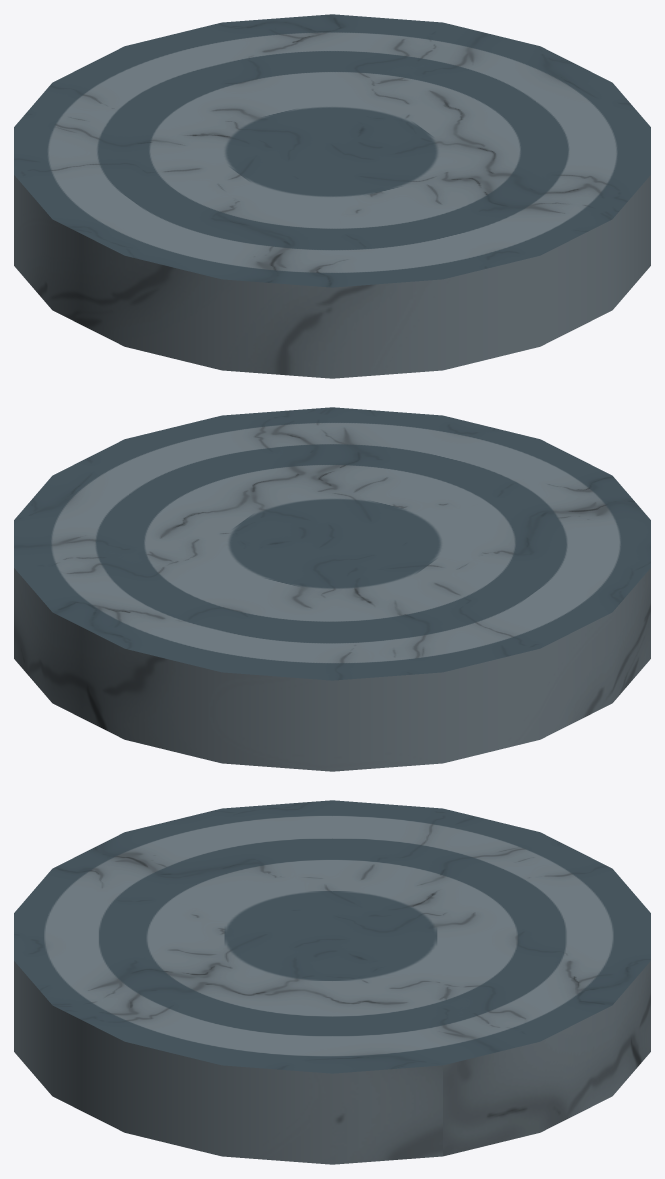
The model's file is Target2.fbx.
3 renders of one model, top to bottom at view 1: azimuth 30°, elevation 25°; view 2: azimuth 150°, elevation 25°; view 3: azimuth 270°, elevation 25°, orthographic.
Parts seen in each view (by area): view 1: SM_Target2; view 2: SM_Target2; view 3: SM_Target2.
Boxes of the visible parts, x1,y1,x2,y2 form: SM_Target2: (14,14,650,378); SM_Target2: (14,407,650,771); SM_Target2: (14,800,650,1164).
Size of the model in its own units: 2 by 0.3107 by 1.97.
